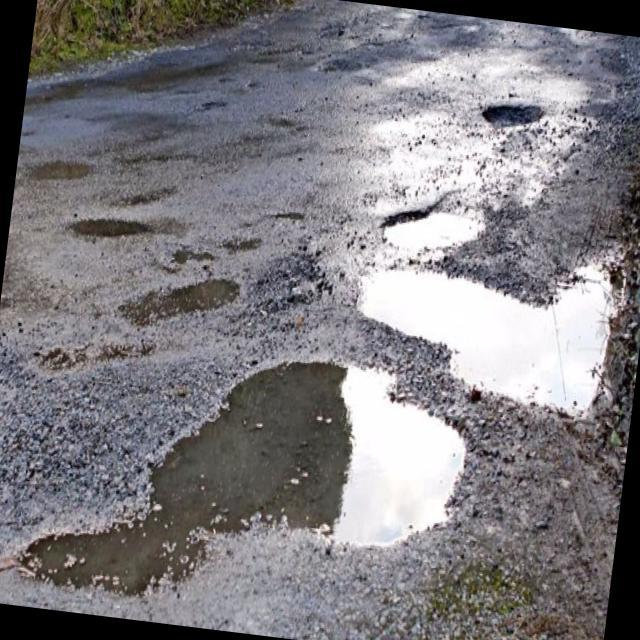Pothole: (172, 332, 448, 629), (376, 168, 486, 274), (473, 91, 548, 144)
